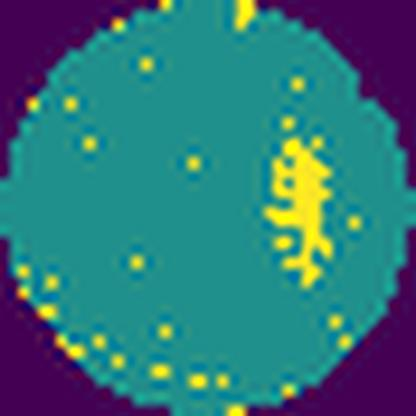Loc: (262, 139, 334, 287)
